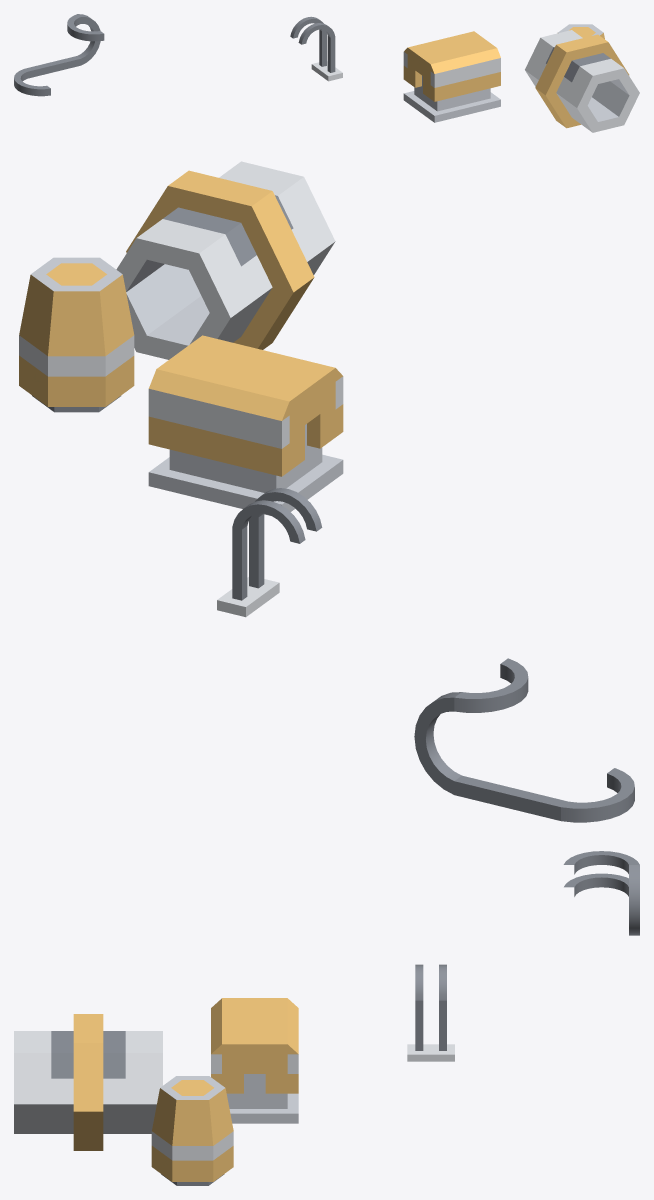
File: o2-gen_lvl2.glb
3 views of the same model, one above another, from view 1: azimuth 30°, elevation 25°; view 2: azimuth 150°, elevation 25°; view 3: azimuth 270°, elevation 25° (orthographic). The views are drawn at different scales.
Visible parts, largest first — view 1: pipe_ring.001, machine_generator.001, cable.002, cables.001, machine_barrel.001; view 2: pipe_ring.001, machine_generator.001, machine_barrel.001, cable.002, cables.001; view 3: pipe_ring.001, machine_generator.001, machine_barrel.001, cable.002, cables.001.
Part boxes in pixels (x1=…): pipe_ring.001: x1=525, y1=30, x2=639, y2=132; machine_generator.001: x1=403, y1=31, x2=500, y2=122; cable.002: x1=14, y1=14, x2=104, y2=96; cables.001: x1=290, y1=16, x2=342, y2=81; machine_barrel.001: x1=558, y1=24, x2=604, y2=39; pipe_ring.001: x1=116, y1=161, x2=335, y2=359; machine_generator.001: x1=148, y1=335, x2=343, y2=515; machine_barrel.001: x1=19, y1=257, x2=134, y2=412; cable.002: x1=414, y1=658, x2=634, y2=822; cables.001: x1=217, y1=488, x2=322, y2=617; pipe_ring.001: x1=14, y1=1014, x2=162, y2=1150; machine_generator.001: x1=211, y1=998, x2=298, y2=1123; machine_barrel.001: x1=151, y1=1076, x2=233, y2=1185; cable.002: x1=563, y1=851, x2=639, y2=935; cables.001: x1=407, y1=964, x2=454, y2=1061.
Bounding box in the file's own units: 3.64 × 0.675 × 3.15.
